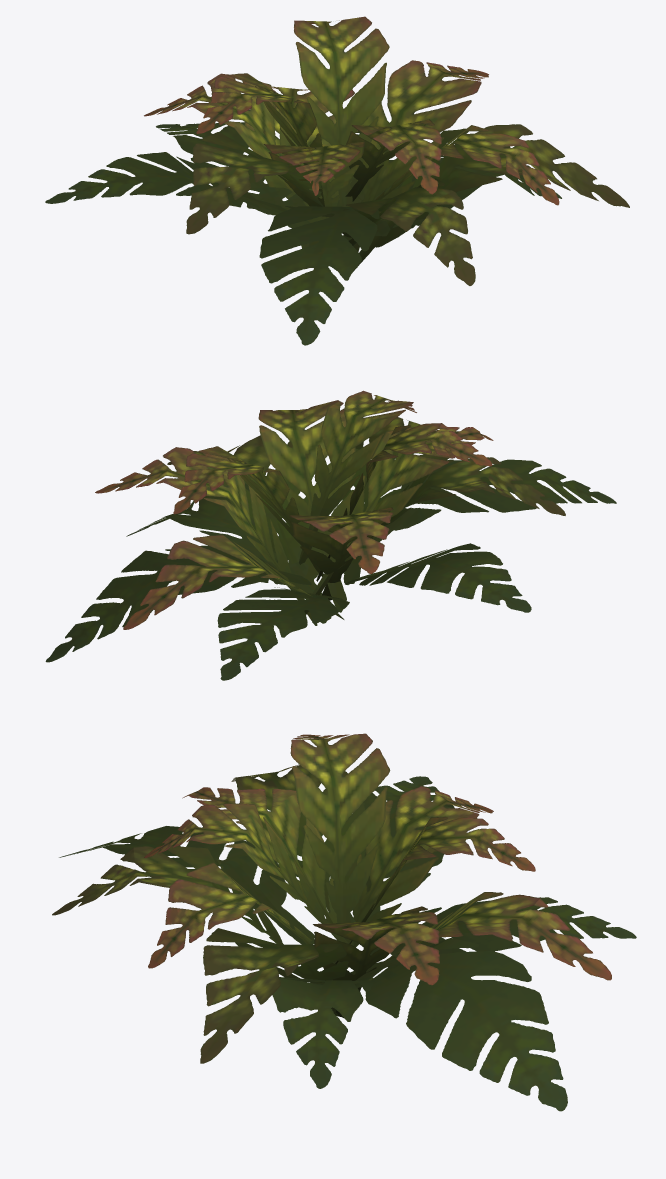
The model's file is 2_Plant_GuanMu_01.FBX.
The picture shows the model from 3 angles, top to bottom: view 1: azimuth 30°, elevation 25°; view 2: azimuth 150°, elevation 25°; view 3: azimuth 270°, elevation 25°; orthographic projection. The views are drawn at different scales.
Parts seen in each view (by area): view 1: 2_Plant_GuanMu_01; view 2: 2_Plant_GuanMu_01; view 3: 2_Plant_GuanMu_01.
Boxes of the visible parts, x1,y1,x2,y2 form: 2_Plant_GuanMu_01: [45, 16, 629, 345]; 2_Plant_GuanMu_01: [45, 390, 616, 680]; 2_Plant_GuanMu_01: [52, 733, 636, 1111].
Size of the model in its own units: 129 by 56.04 by 129.
